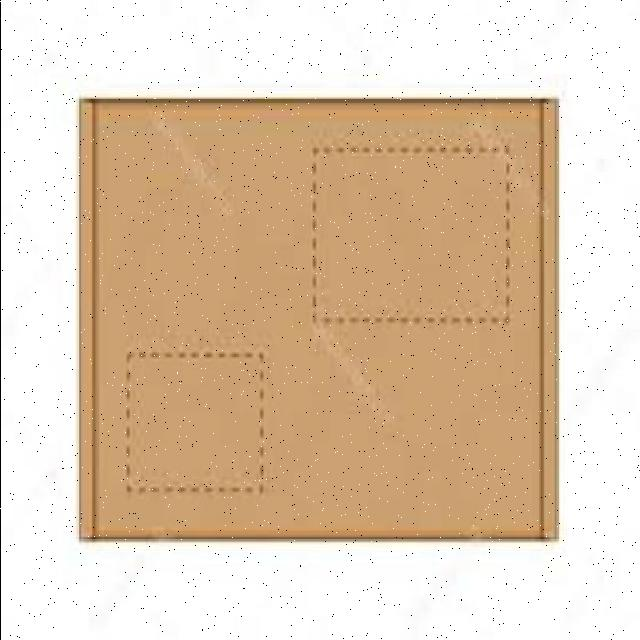normal: (72, 88, 565, 549)
